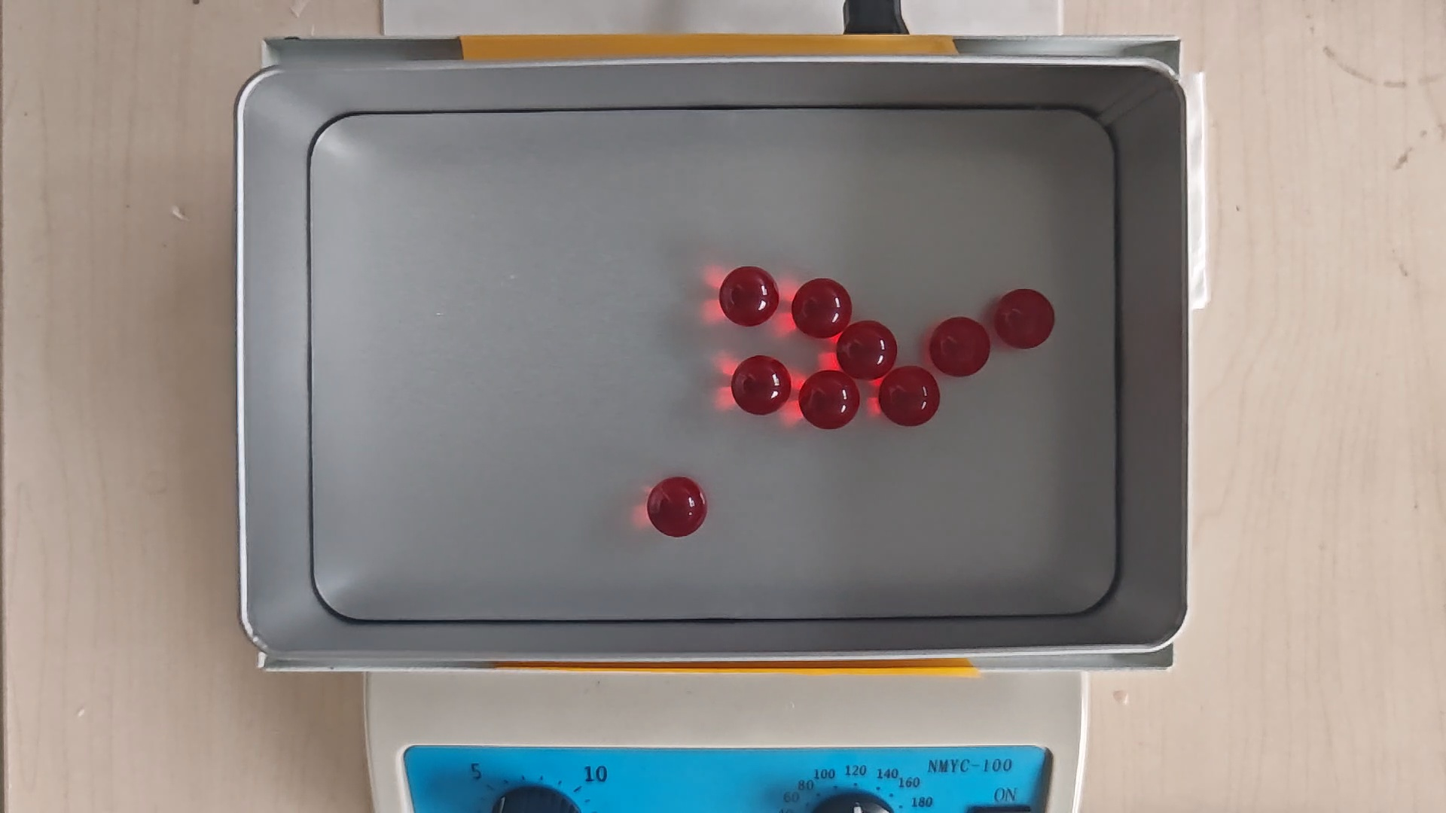ball: (799, 370, 862, 431), (994, 288, 1055, 350), (647, 475, 707, 538), (930, 316, 990, 378), (719, 265, 778, 327), (880, 366, 939, 427), (732, 355, 791, 416), (793, 277, 851, 339), (838, 321, 897, 379)
container: (310, 108, 1118, 620)
